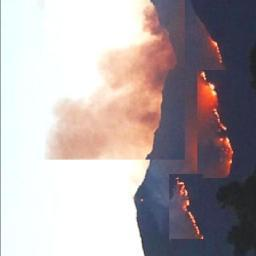Low smoke: (45, 5, 179, 158)
Small fire: (193, 67, 229, 120)
